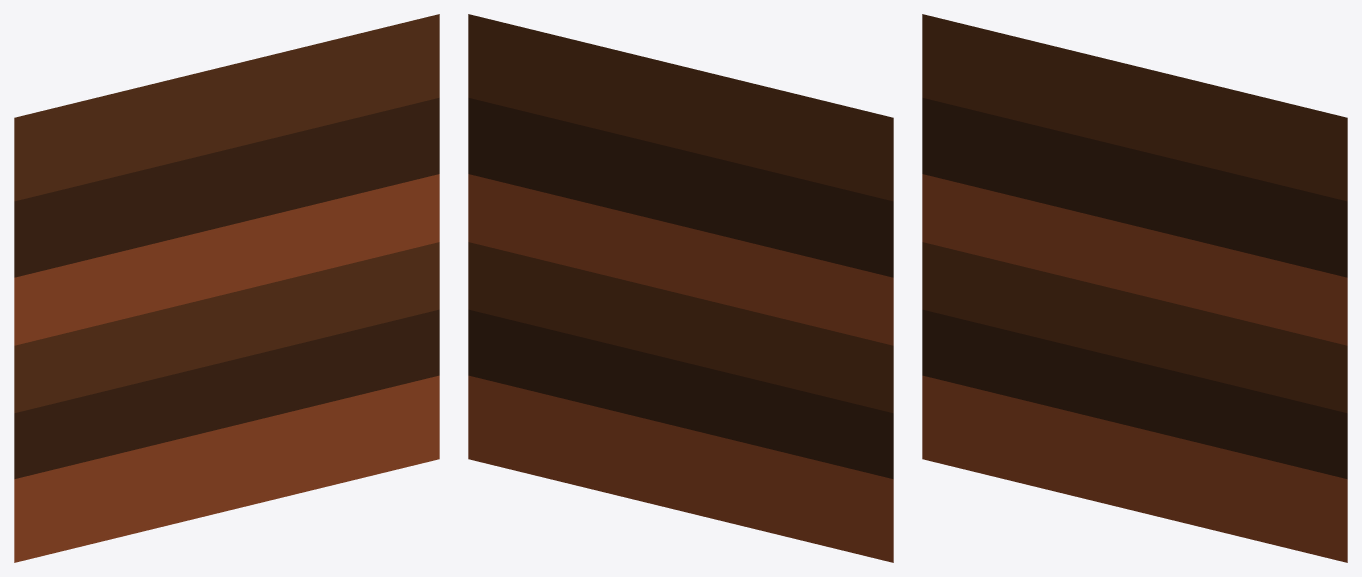
The model's file is Cube_Grass_SideCenter_Tall.fbx.
3 renders of one model, left to right at view 1: azimuth 30°, elevation 25°; view 2: azimuth 150°, elevation 25°; view 3: azimuth 330°, elevation 25°, orthographic.
Visible parts, largest first — view 1: Cube_Grass_SideCenter_Tall; view 2: Cube_Grass_SideCenter_Tall; view 3: Cube_Grass_SideCenter_Tall.
Part boxes in pixels (x1,y1,x2,y2): Cube_Grass_SideCenter_Tall: (14, 14, 439, 562); Cube_Grass_SideCenter_Tall: (468, 14, 893, 562); Cube_Grass_SideCenter_Tall: (922, 14, 1347, 562).
Bounding box in the file's own units: 200 × 200 × 3.26e-05.
